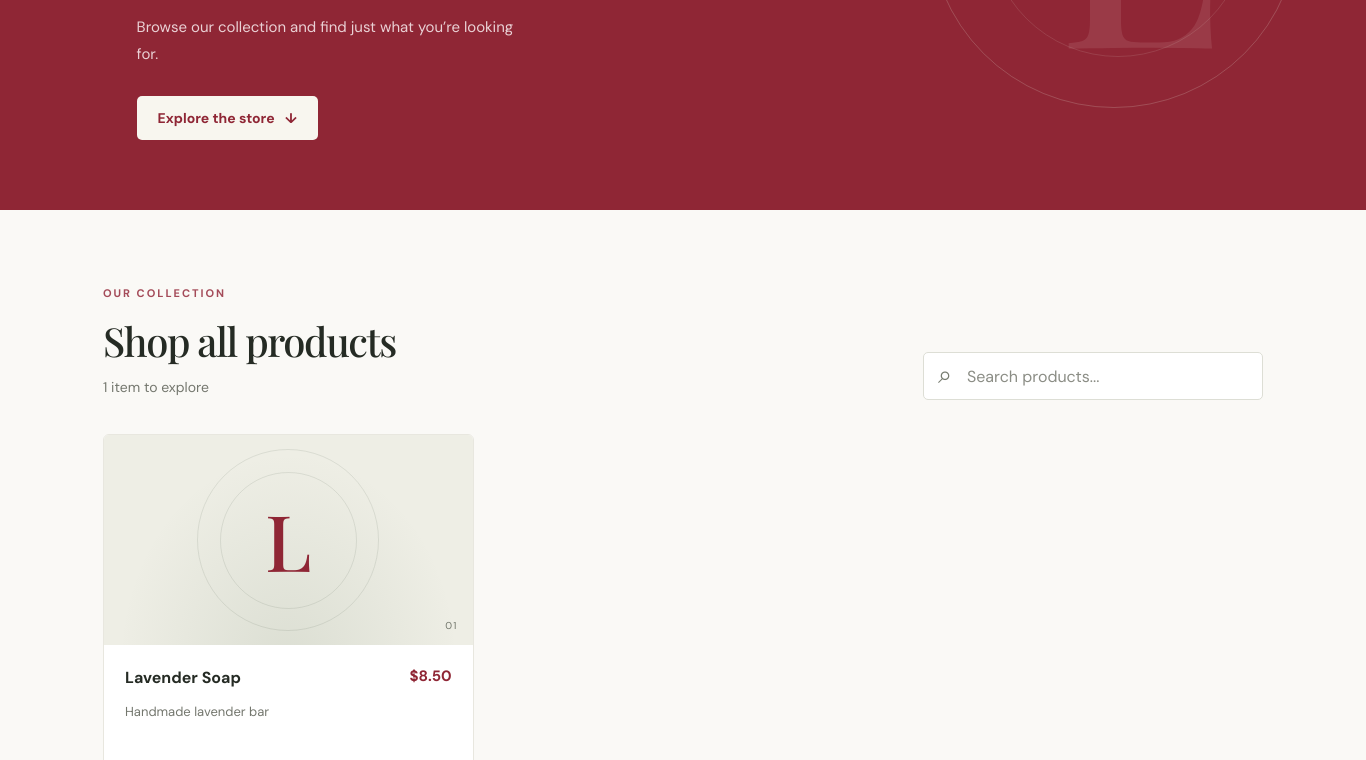
Scenario: Storefront › filters products by name and description
(page scrolled)
Expected: the heading "Lavender Soap" is shown, [125,666,241,689]
Type "lavender" into the search field labelled "Search products" at (1093, 376), box [923,352,1263,400]
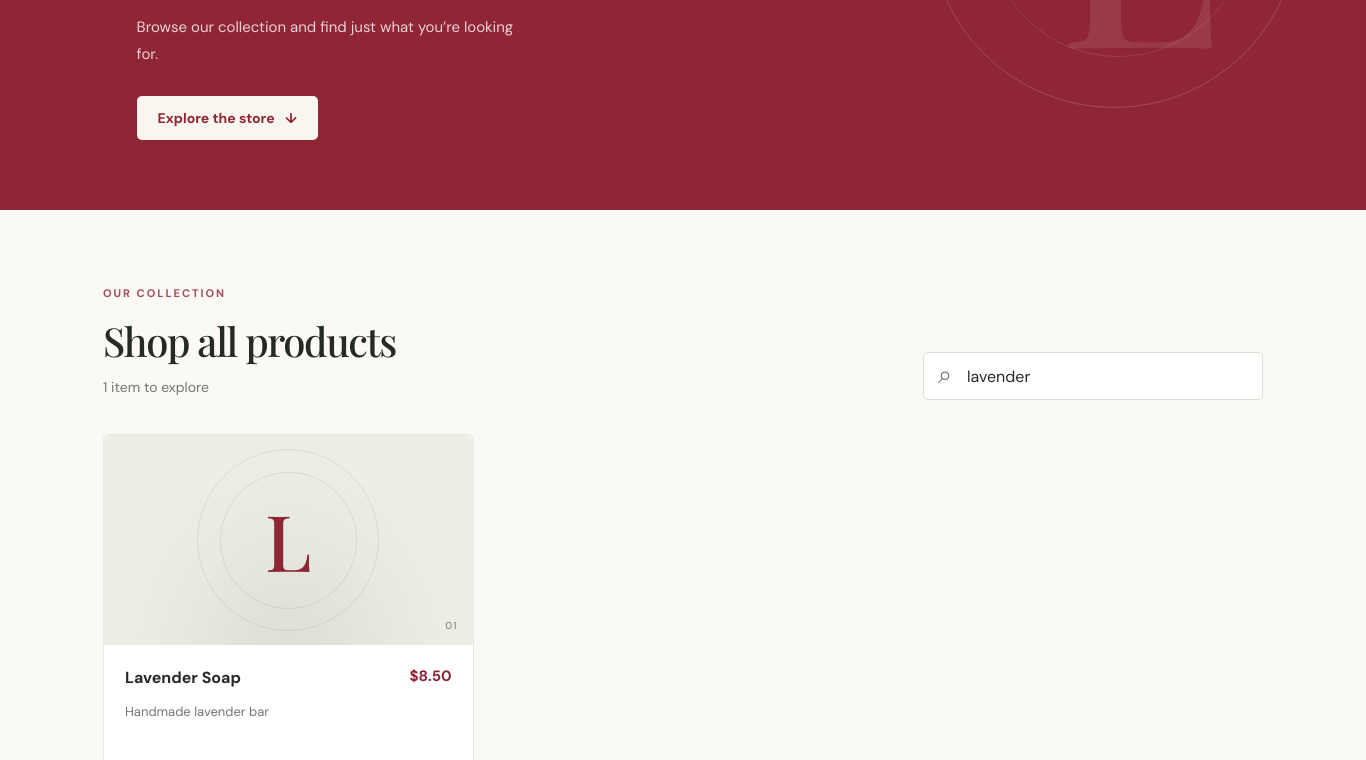
Expected: the heading "Lavender Soap" is shown, [125,666,241,689]
Replace the text in the search field named "Search products" with "mint" at (1093, 376), box [923,352,1263,400]
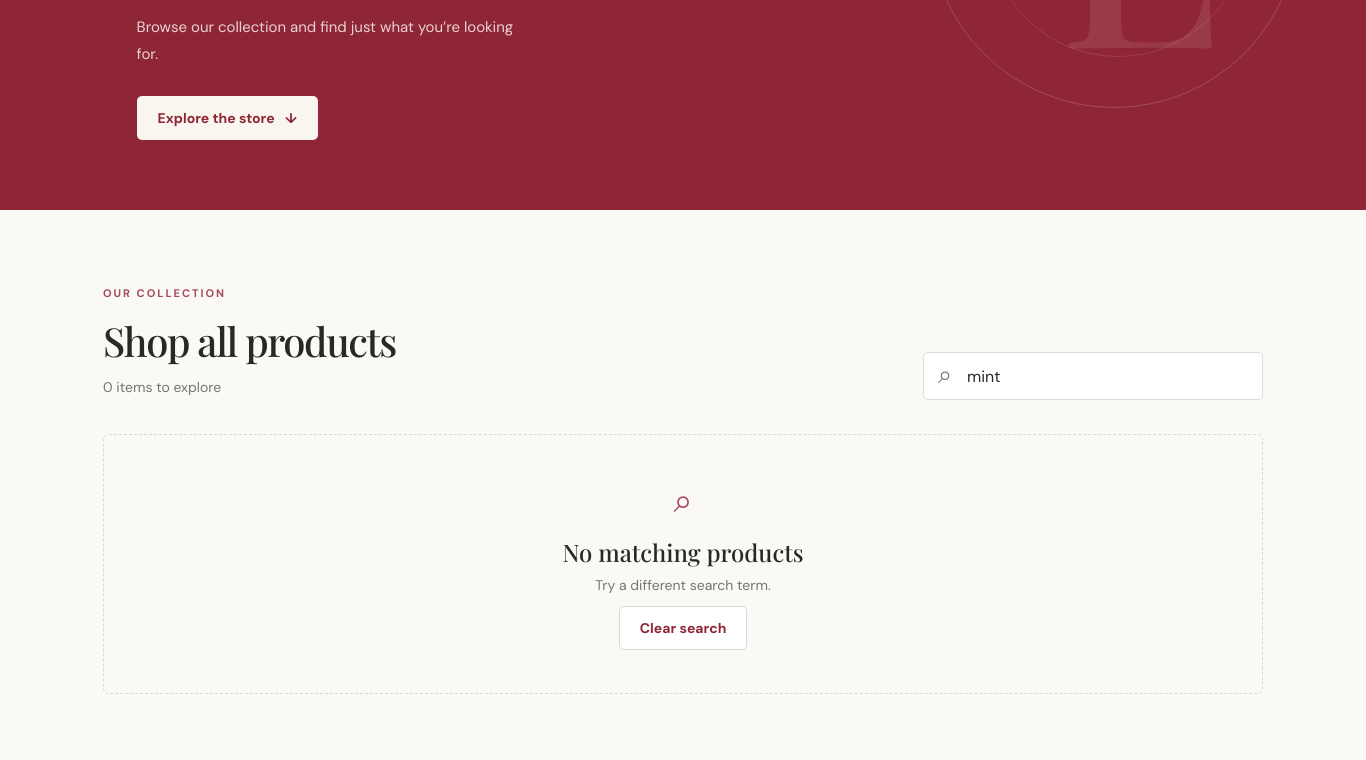
Expected: the link "Lavender Soap" is gone
Expected: the heading "No matching products" is shown, [562,536,804,568]
